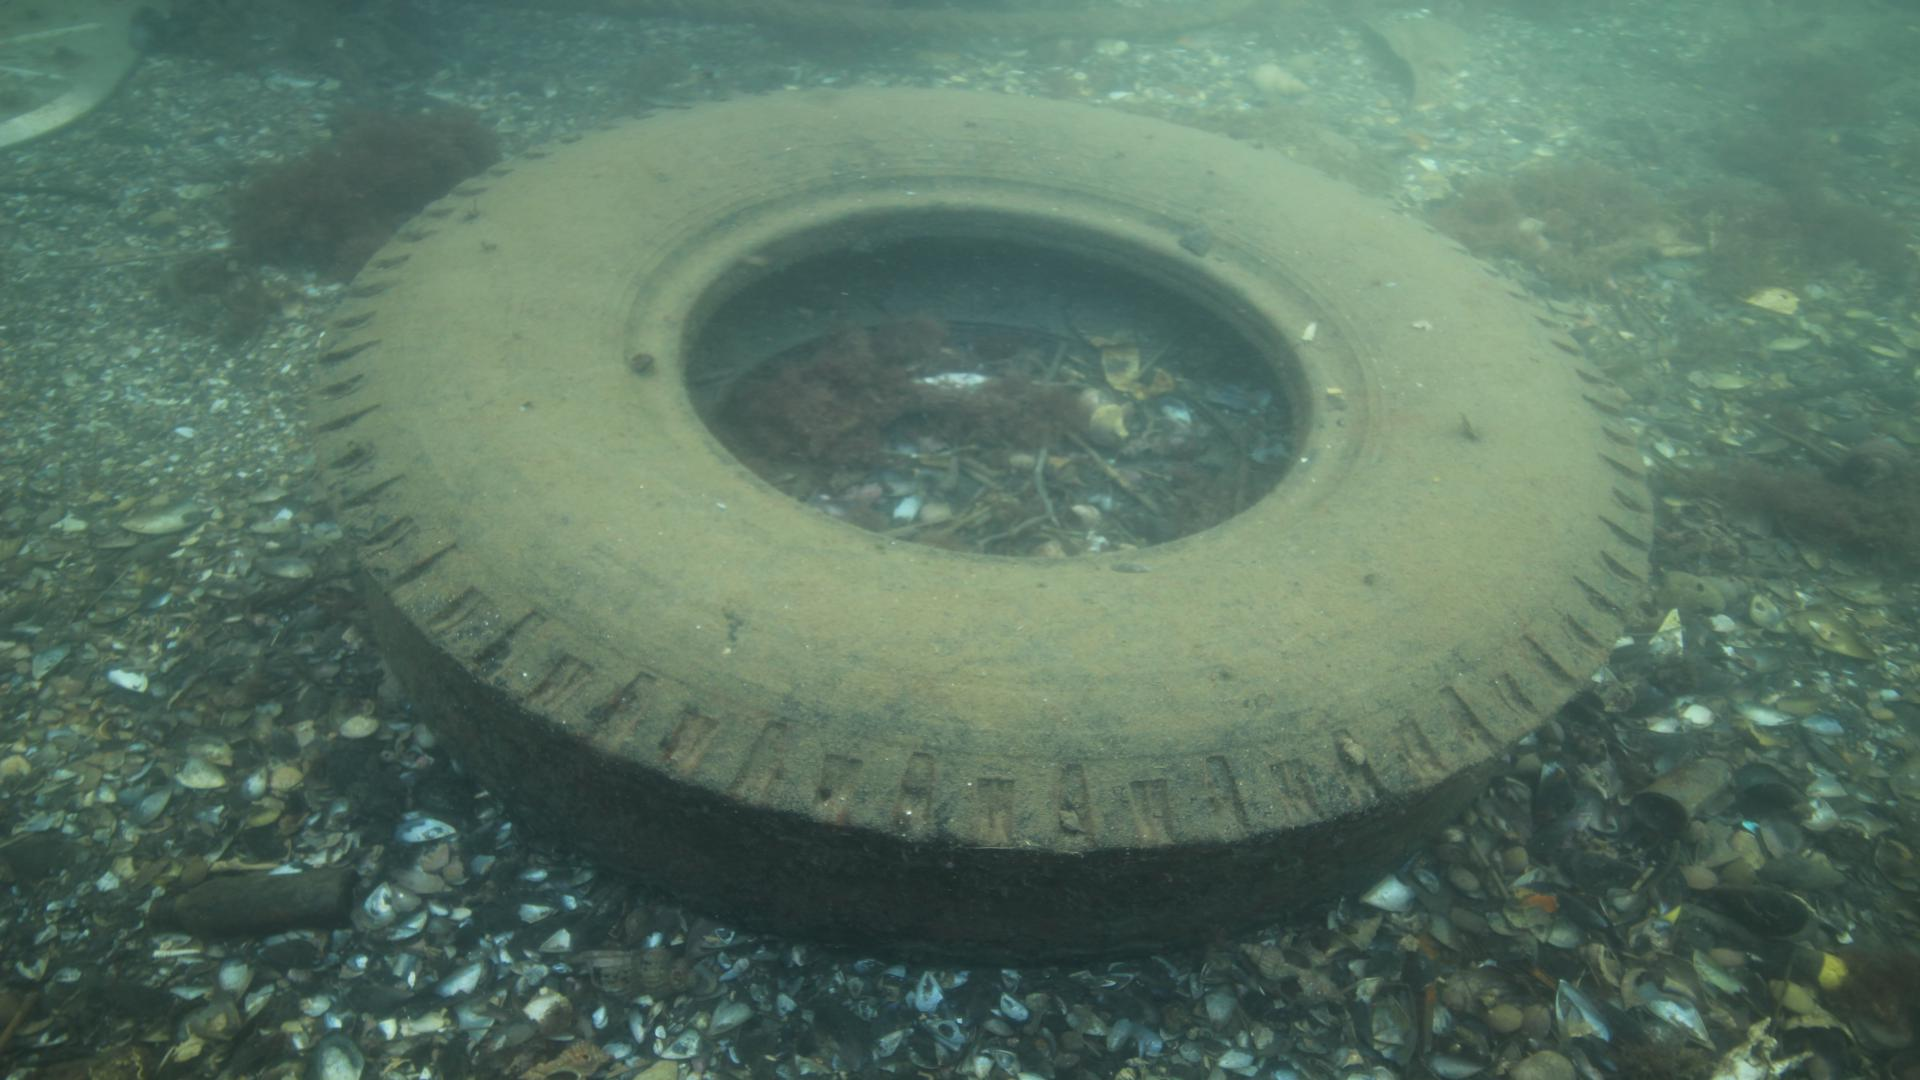tire: (305, 87, 1659, 967)
